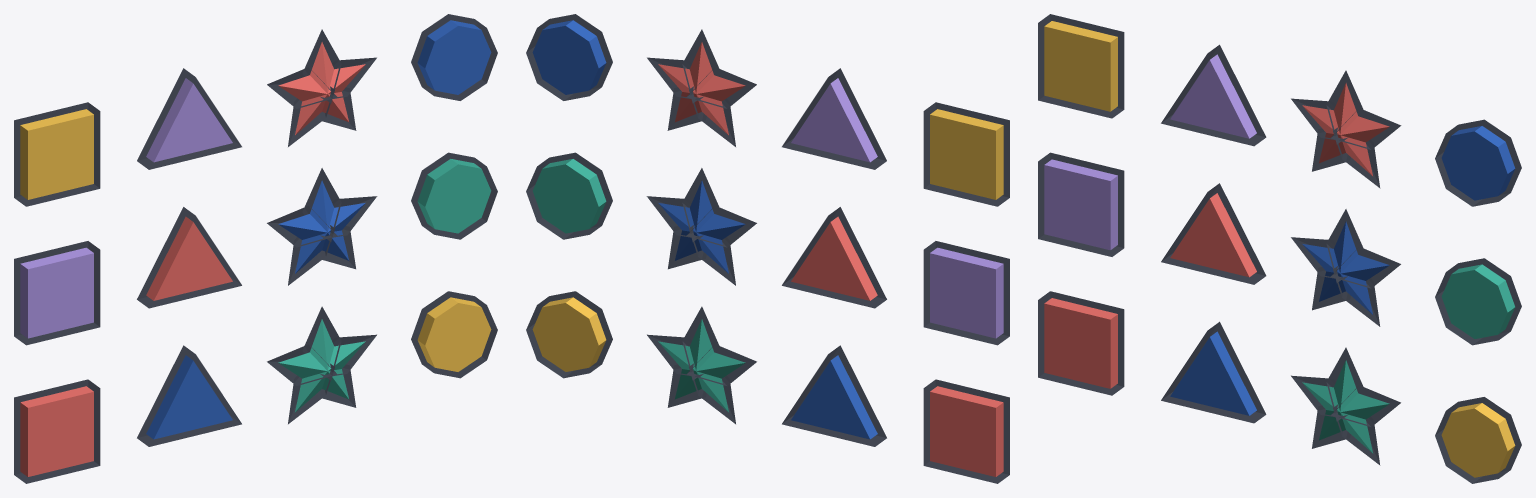
The model's file is confetti_pieces.glb.
3 views of the same model, side by side, from view 1: azimuth 30°, elevation 25°; view 2: azimuth 150°, elevation 25°; view 3: azimuth 330°, elevation 25° (orthographic).
Visible parts, largest first — view 1: ink_outline (×12), piece_4, piece_8, piece_0, piece_3, piece_11, piece_7, piece_5, piece_1, piece_9, piece_2, piece_6 (+1 smaller); view 2: ink_outline (×12), piece_4, piece_8, piece_0, piece_3, piece_11, piece_7, piece_5, piece_1, piece_9, piece_2, piece_6 (+1 smaller); view 3: ink_outline (×12), piece_4, piece_0, piece_8, piece_11, piece_3, piece_7, piece_5, piece_1, piece_9, piece_2, piece_6 (+1 smaller).
Part boxes in pixels (left/top/right/bottom): ink_outline (×12): left=14, top=14, right=497, bottom=483; piece_4: left=20, top=247, right=93, bottom=338; piece_8: left=20, top=109, right=93, bottom=199; piece_0: left=20, top=386, right=93, bottom=476; piece_3: left=417, top=297, right=491, bottom=371; piece_11: left=417, top=20, right=491, bottom=94; piece_7: left=417, top=159, right=491, bottom=233; piece_5: left=146, top=216, right=232, bottom=300; piece_1: left=146, top=355, right=232, bottom=439; piece_9: left=146, top=78, right=232, bottom=162; piece_2: left=278, top=319, right=365, bottom=412; piece_6: left=278, top=180, right=365, bottom=273; ink_outline (×12): left=526, top=14, right=1009, bottom=483; piece_4: left=930, top=247, right=1003, bottom=338; piece_8: left=930, top=109, right=1003, bottom=199; piece_0: left=930, top=386, right=1003, bottom=476; piece_3: left=532, top=297, right=606, bottom=371; piece_11: left=532, top=20, right=606, bottom=94; piece_7: left=532, top=159, right=606, bottom=233; piece_5: left=791, top=216, right=877, bottom=300; piece_1: left=791, top=355, right=877, bottom=439; piece_9: left=791, top=78, right=877, bottom=162; piece_2: left=658, top=319, right=745, bottom=412; piece_6: left=658, top=180, right=745, bottom=273; ink_outline (×12): left=1038, top=14, right=1521, bottom=483; piece_4: left=1044, top=159, right=1117, bottom=250; piece_0: left=1044, top=298, right=1117, bottom=388; piece_8: left=1044, top=21, right=1117, bottom=111; piece_11: left=1441, top=126, right=1515, bottom=200; piece_3: left=1441, top=403, right=1515, bottom=477; piece_7: left=1441, top=264, right=1515, bottom=338; piece_5: left=1170, top=193, right=1256, bottom=277; piece_1: left=1170, top=331, right=1256, bottom=415; piece_9: left=1170, top=54, right=1256, bottom=138; piece_2: left=1302, top=360, right=1389, bottom=453; piece_6: left=1302, top=221, right=1389, bottom=314.
Bounding box in the file's own units: 0.0712 × 0.0559 × 0.00481.
